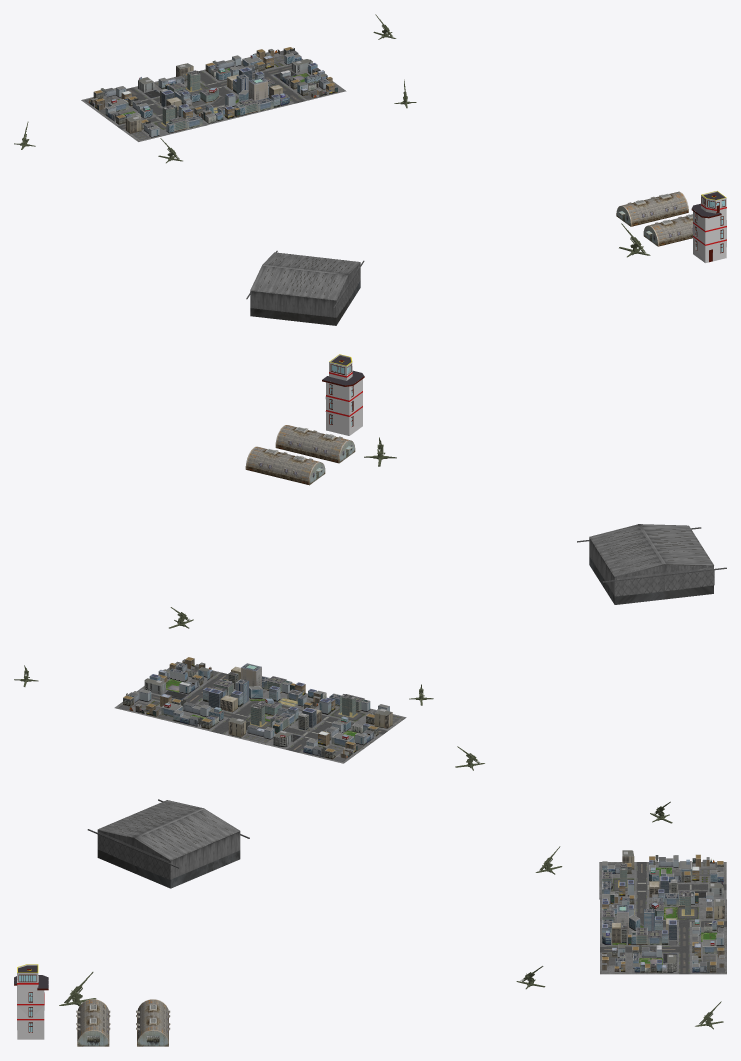
Rendered from Stalingrad.glb.
3 renders of one model, top to bottom at view 1: azimuth 30°, elevation 25°; view 2: azimuth 150°, elevation 25°; view 3: azimuth 270°, elevation 25°, orthographic. The views are drawn at different scales.
Parts seen in each view (by area): view 1: Object_32, Object_2, German.Control.Tower.1.700, Cylinder001_Barrack Texture Map_0.002, Cylinder001_Barrack Texture Map_0.001; view 2: Object_32, Object_2, German.Control.Tower.1.700, Cylinder001_Barrack Texture Map_0.002, Cylinder001_Barrack Texture Map_0.001; view 3: Object_32, Object_2, German.Control.Tower.1.700, Cylinder001_Barrack Texture Map_0.001, Cylinder001_Barrack Texture Map_0.002.
Part boxes in pixels (x1=…): Object_32: x1=81, y1=47, x2=346, y2=141; Object_2: x1=246, y1=250, x2=364, y2=325; German.Control.Tower.1.700: x1=691, y1=191, x2=726, y2=263; Cylinder001_Barrack Texture Map_0.002: x1=616, y1=191, x2=688, y2=226; Cylinder001_Barrack Texture Map_0.001: x1=643, y1=214, x2=692, y2=246; Object_32: x1=114, y1=657, x2=406, y2=763; Object_2: x1=577, y1=524, x2=726, y2=604; German.Control.Tower.1.700: x1=322, y1=354, x2=364, y2=435; Cylinder001_Barrack Texture Map_0.002: x1=245, y1=446, x2=325, y2=485; Cylinder001_Barrack Texture Map_0.001: x1=275, y1=425, x2=355, y2=463; Object_32: x1=599, y1=850, x2=726, y2=974; Object_2: x1=87, y1=799, x2=249, y2=888; German.Control.Tower.1.700: x1=14, y1=964, x2=48, y2=1039; Cylinder001_Barrack Texture Map_0.001: x1=76, y1=999, x2=110, y2=1046; Cylinder001_Barrack Texture Map_0.002: x1=136, y1=999, x2=170, y2=1046.
Size of the model in its own units: 204 by 30.66 by 262.
20 materials, 4 textured.
